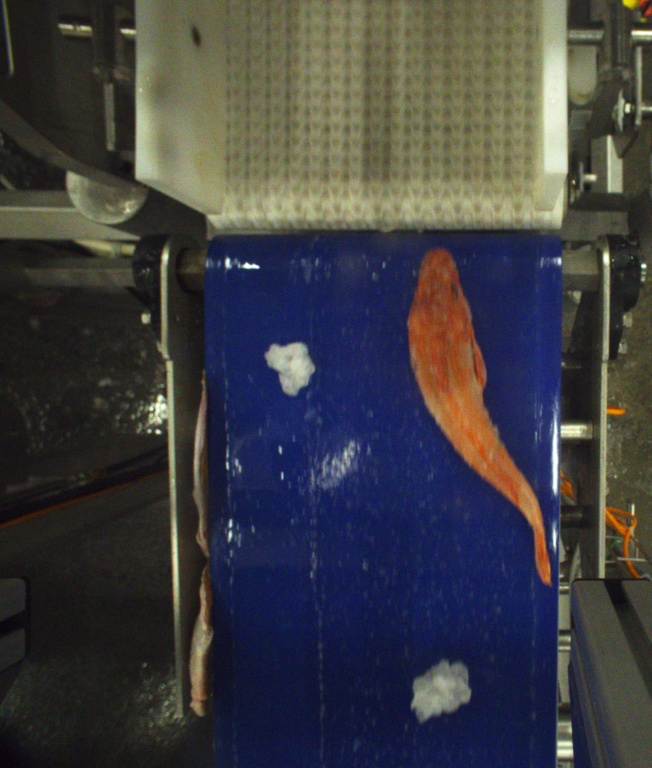GUU: (408, 245, 553, 584)
